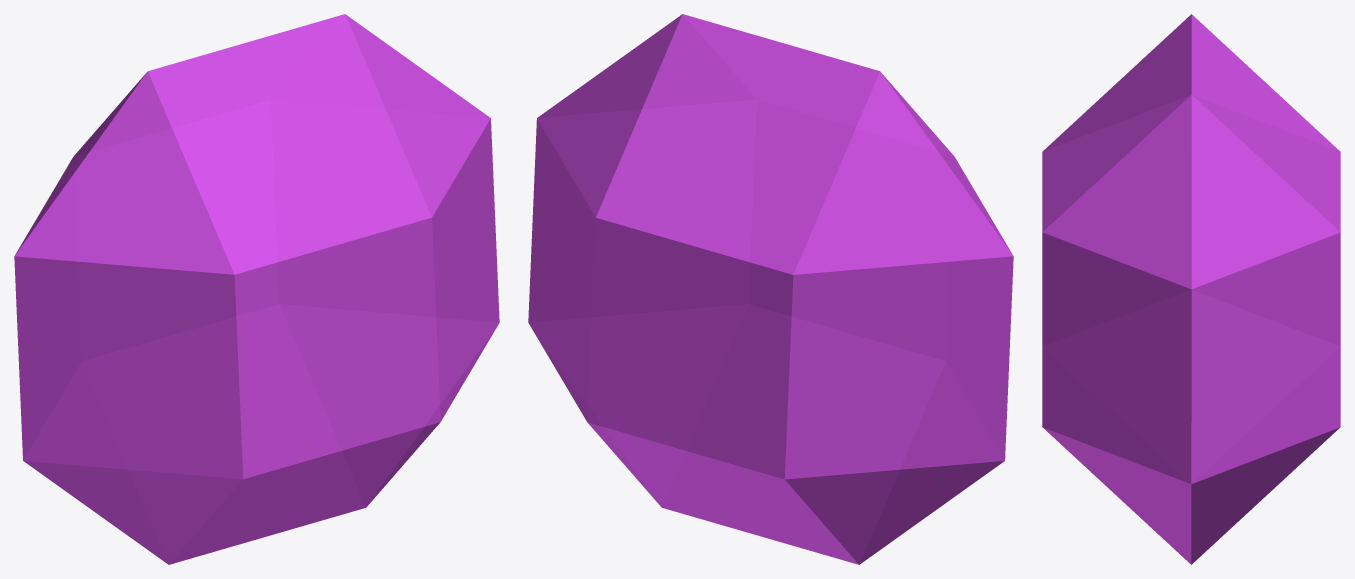
File: j28_square_orthobicupola.obj
3 views of the same model, side by side, from view 1: azimuth 30°, elevation 25°; view 2: azimuth 150°, elevation 25°; view 3: azimuth 270°, elevation 25° (orthographic). The views are drawn at different scales.
Size of the model in its own units: 2.11 by 2.11 by 1.22.
